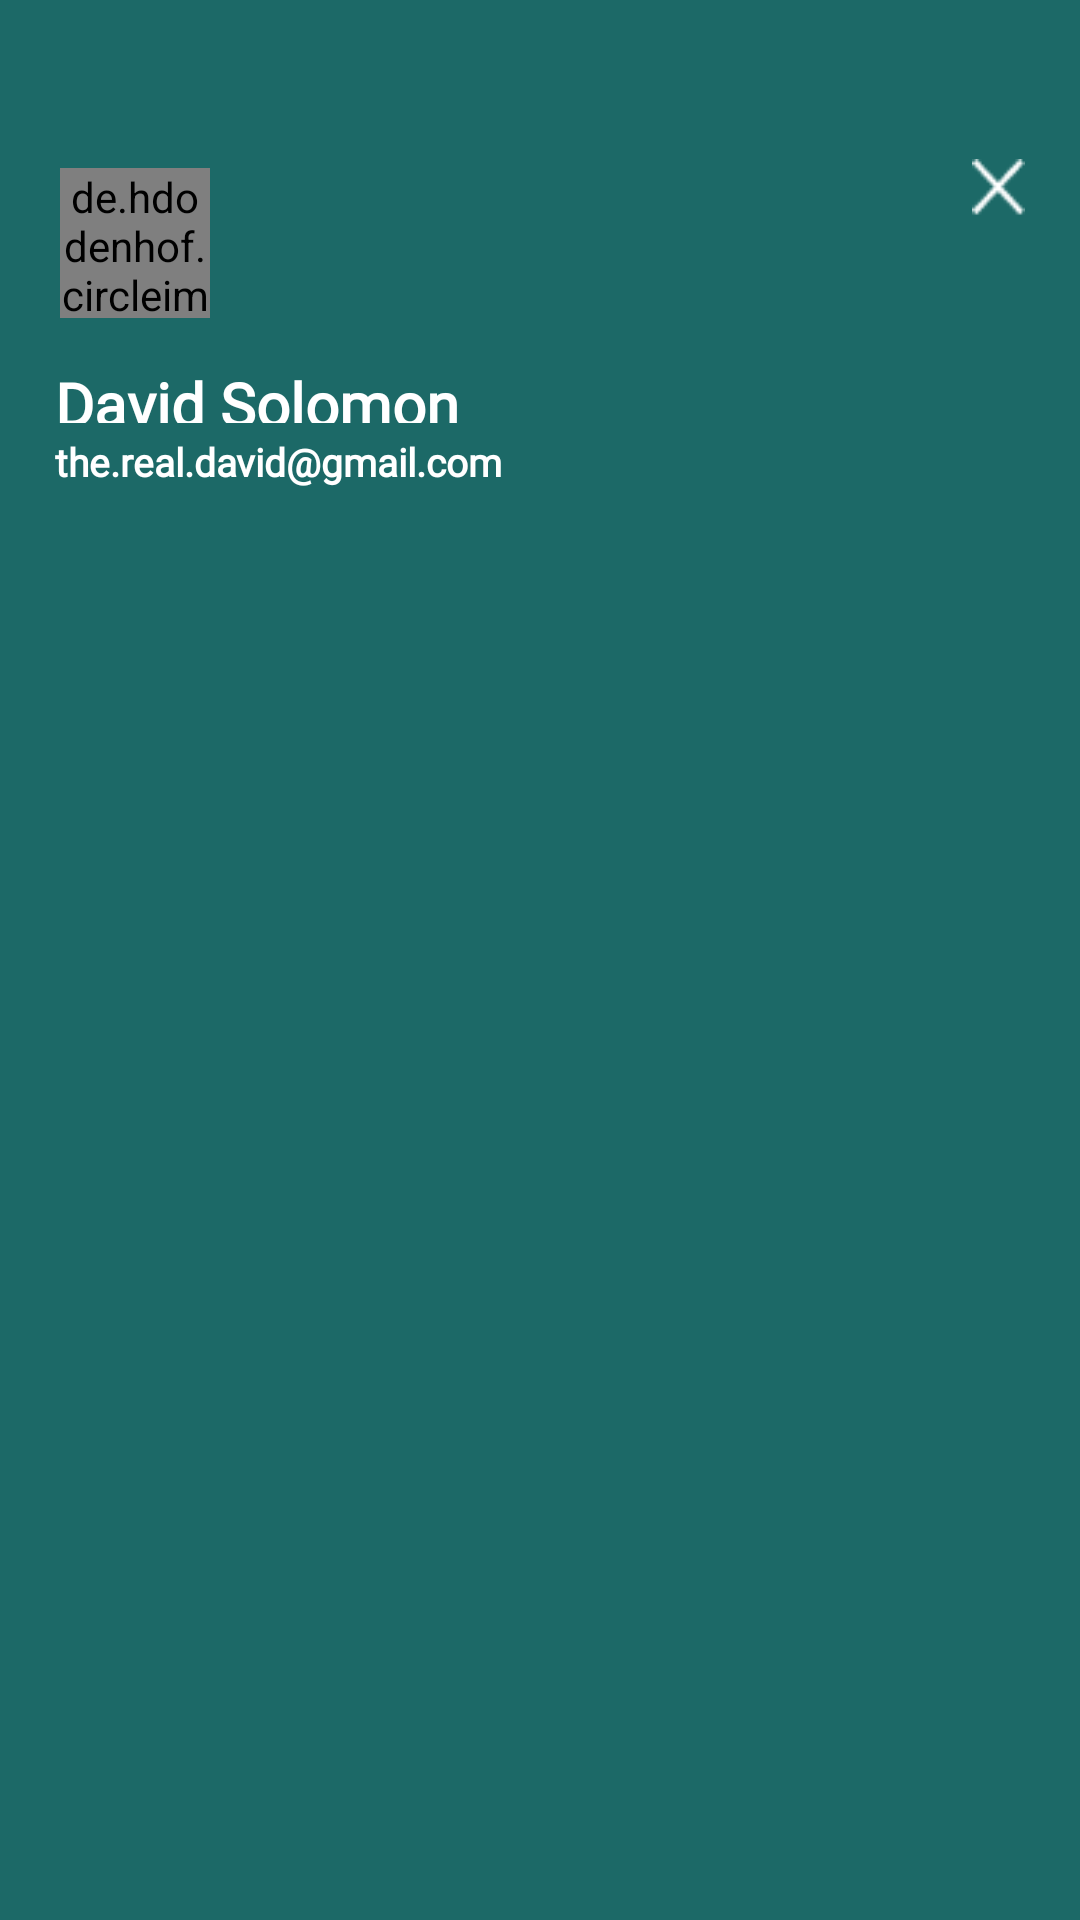

Icon click points for this 1080×1920 phone screenshot, format (x=x, y=y):
cancel: (x=998, y=187)
